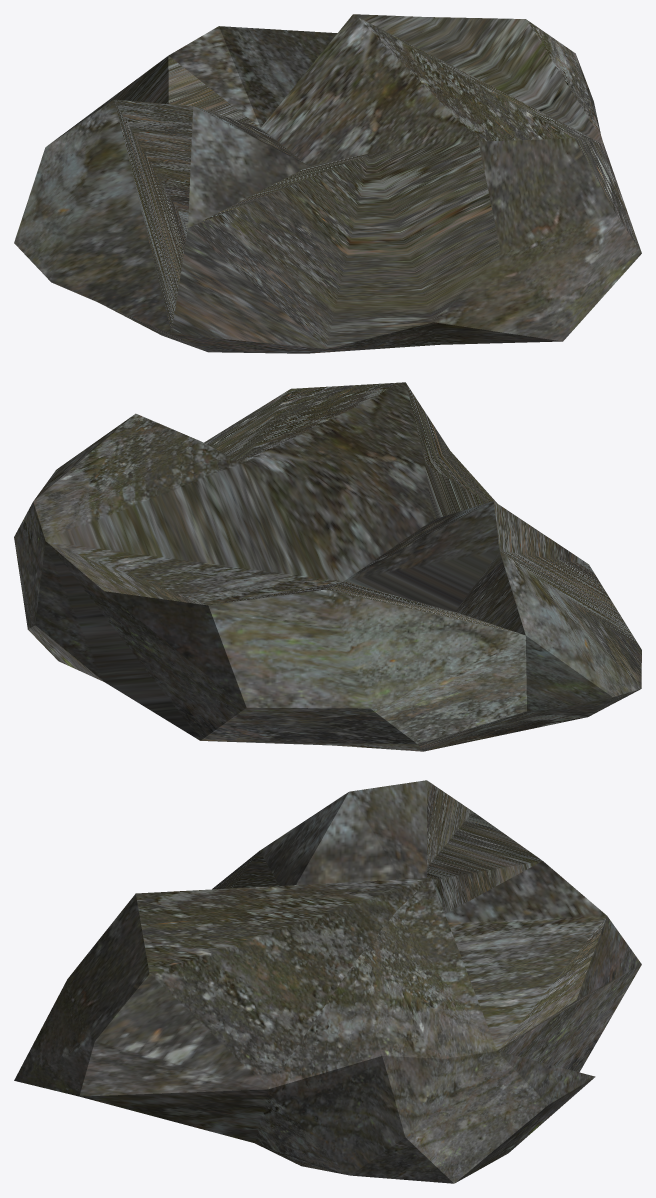
Rendered from Rock1.fbx.
The picture shows the model from 3 angles, top to bottom: view 1: azimuth 30°, elevation 25°; view 2: azimuth 150°, elevation 25°; view 3: azimuth 270°, elevation 25°; orthographic projection. The views are drawn at different scales.
Parts seen in each view (by area): view 1: Rock3; view 2: Rock3; view 3: Rock3.
Boxes of the visible parts, x1=… form: Rock3: x1=14, y1=14, x2=641, y2=353; Rock3: x1=14, y1=382, x2=641, y2=751; Rock3: x1=14, y1=780, x2=641, y2=1183.
Size of the model in its own units: 361 by 146 by 324.
1 material, 1 textured.
